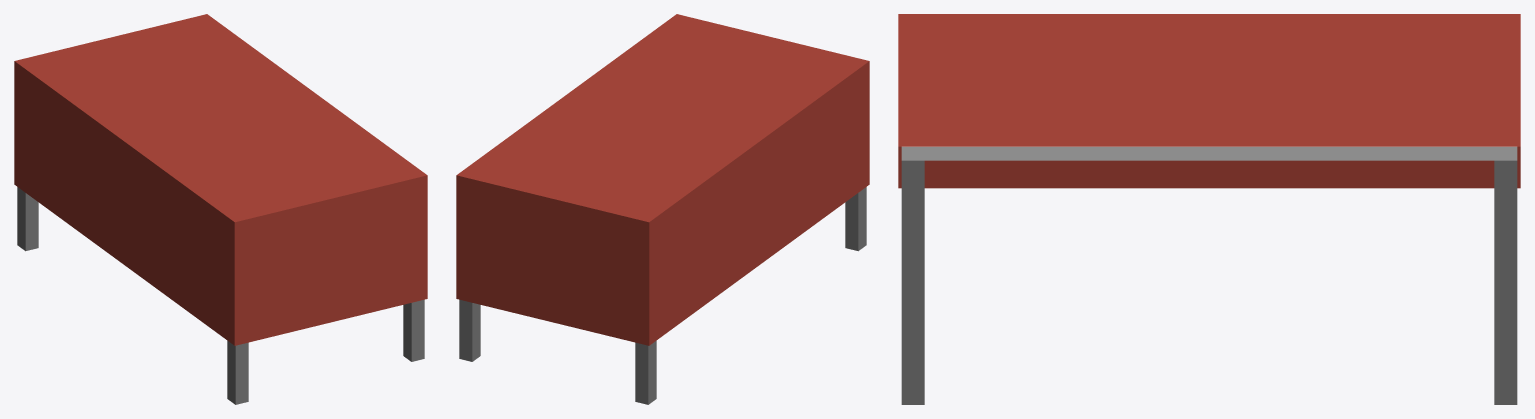
File: Table.fbx
3 renders of one model, left to right at view 1: azimuth 30°, elevation 25°; view 2: azimuth 150°, elevation 25°; view 3: azimuth 270°, elevation 25°, orthographic. The views are drawn at different scales.
Visible parts, largest first — view 1: Table Cloth, Table; view 2: Table Cloth, Table; view 3: Table Cloth, Table.
Boxes of the visible parts, x1,y1,x2,y2 form: Table Cloth: (14, 14, 427, 345); Table: (17, 187, 424, 404); Table Cloth: (456, 14, 869, 345); Table: (459, 187, 866, 404); Table Cloth: (898, 14, 1520, 188); Table: (901, 146, 1517, 404).
Size of the model in its own units: 204 by 186 by 404.
